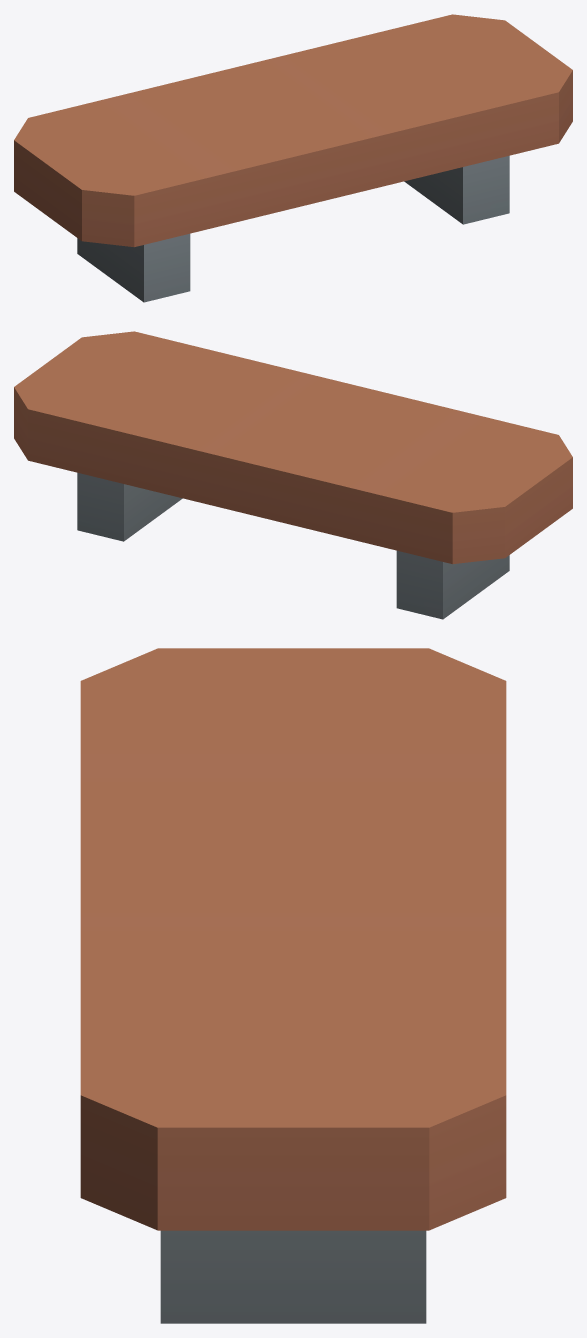
Rendered from kk-bench.glb.
3 views of the same model, one above another, from view 1: azimuth 30°, elevation 25°; view 2: azimuth 150°, elevation 25°; view 3: azimuth 270°, elevation 25° (orthographic). The views are drawn at different scales.
Parts seen in each view (by area): view 1: bench; view 2: bench; view 3: bench.
Part boxes in pixels (x1,y1,x2,y2): bench: (14, 14, 572, 302); bench: (14, 331, 572, 619); bench: (80, 648, 506, 1323).
Bounding box in the file's own units: 0.4 × 0.1 × 0.15.
1 material, 1 textured.
